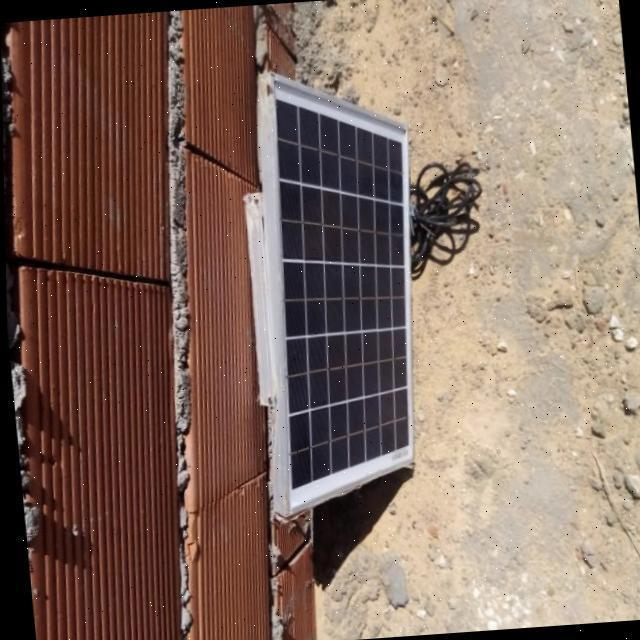Normal Solar Panel: (247, 66, 440, 512)
